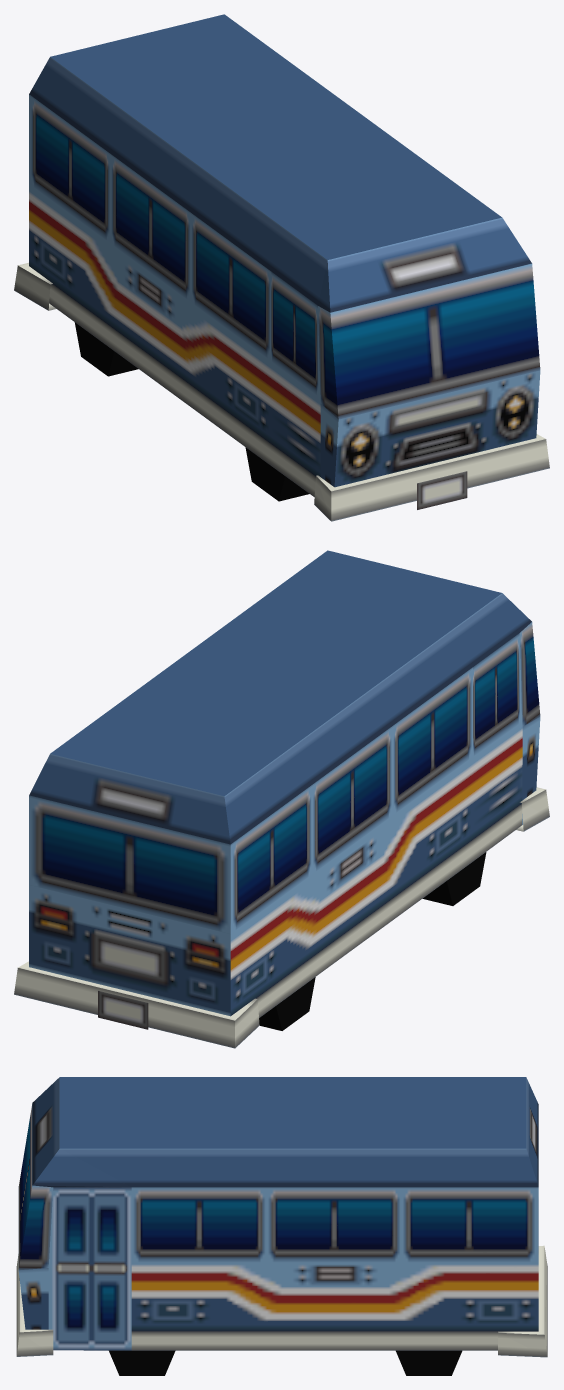
The model's file is ridge_course-bus_a.glb.
3 views of the same model, one above another, from view 1: azimuth 30°, elevation 25°; view 2: azimuth 150°, elevation 25°; view 3: azimuth 270°, elevation 25° (orthographic). The views are drawn at different scales.
Parts seen in each view (by area): view 1: bus_a; view 2: bus_a; view 3: bus_a.
Part boxes in pixels (x1,y1,x2,y2): bus_a: (14, 14, 549, 521); bus_a: (14, 550, 549, 1048); bus_a: (16, 1077, 547, 1375).
Bounding box in the file's own units: 2.91 × 3.32 × 7.28.
1 material, 1 textured.
